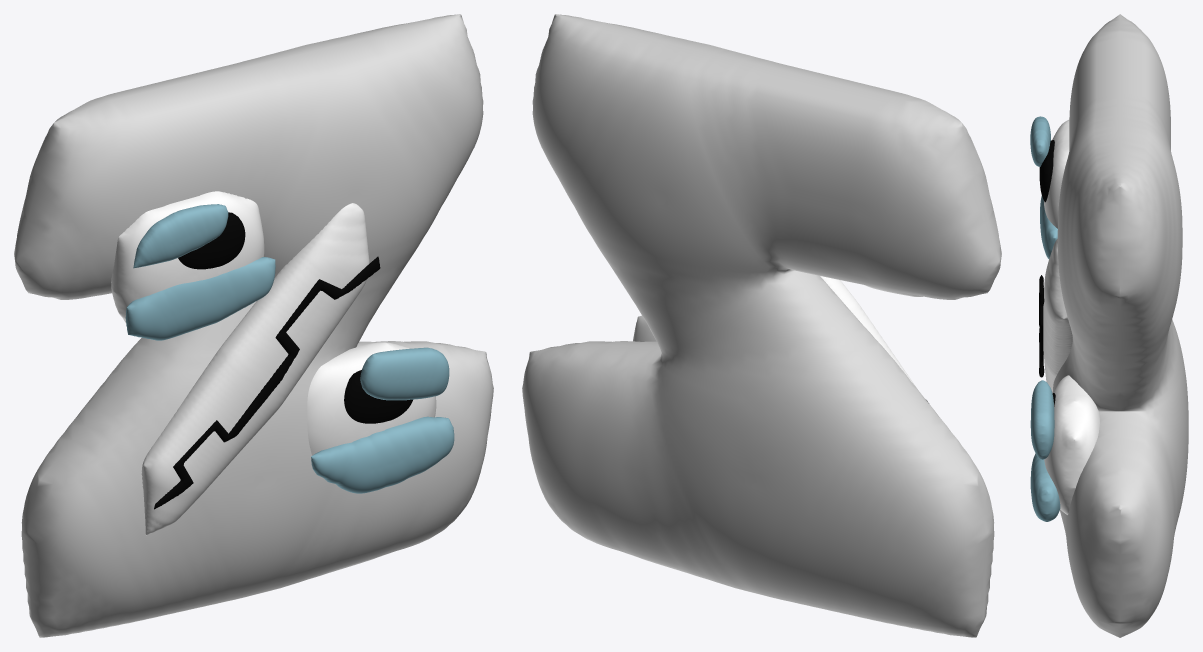
Rendered from z_alphabet_lore.glb.
3 renders of one model, left to right at view 1: azimuth 30°, elevation 25°; view 2: azimuth 150°, elevation 25°; view 3: azimuth 270°, elevation 25°, orthographic. The views are drawn at different scales.
Parts seen in each view (by area): view 1: root_Material_44_0, root_Material_76_0, root_Material_53_0 (×2), root_Material_72_0, root_Material_64_0, root_Material_68_0, root_Material_60_0, root_Material_59_0 (×2), root_Material_86_0; view 2: root_Material_44_0, root_Material_76_0; view 3: root_Material_44_0, root_Material_53_0 (×2), root_Material_76_0, root_Material_68_0, root_Material_72_0, root_Material_60_0, root_Material_64_0, root_Material_59_0, root_Material_86_0.
Boxes of the visible parts, x1=… form: root_Material_44_0: x1=14, y1=14, x2=493, y2=637; root_Material_76_0: x1=141, y1=203, x2=369, y2=535; root_Material_53_0 (×2): x1=111, y1=191, x2=436, y2=455; root_Material_72_0: x1=311, y1=416, x2=454, y2=493; root_Material_64_0: x1=125, y1=257, x2=275, y2=340; root_Material_68_0: x1=360, y1=347, x2=449, y2=400; root_Material_60_0: x1=133, y1=204, x2=228, y2=268; root_Material_59_0 (×2): x1=178, y1=212, x2=412, y2=423; root_Material_86_0: x1=154, y1=256, x2=380, y2=509; root_Material_44_0: x1=522, y1=14, x2=1001, y2=637; root_Material_76_0: x1=820, y1=276, x2=916, y2=387; root_Material_44_0: x1=1052, y1=14, x2=1188, y2=637; root_Material_53_0 (×2): x1=1044, y1=120, x2=1099, y2=514; root_Material_76_0: x1=1043, y1=239, x2=1072, y2=392; root_Material_68_0: x1=1030, y1=380, x2=1054, y2=459; root_Material_72_0: x1=1030, y1=453, x2=1060, y2=521; root_Material_60_0: x1=1030, y1=116, x2=1050, y2=166; root_Material_64_0: x1=1040, y1=195, x2=1057, y2=258; root_Material_59_0: x1=1039, y1=140, x2=1054, y2=202; root_Material_86_0: x1=1039, y1=275, x2=1044, y2=377.
Size of the model in its own units: 0.00546 by 0.00576 by 0.00174.
